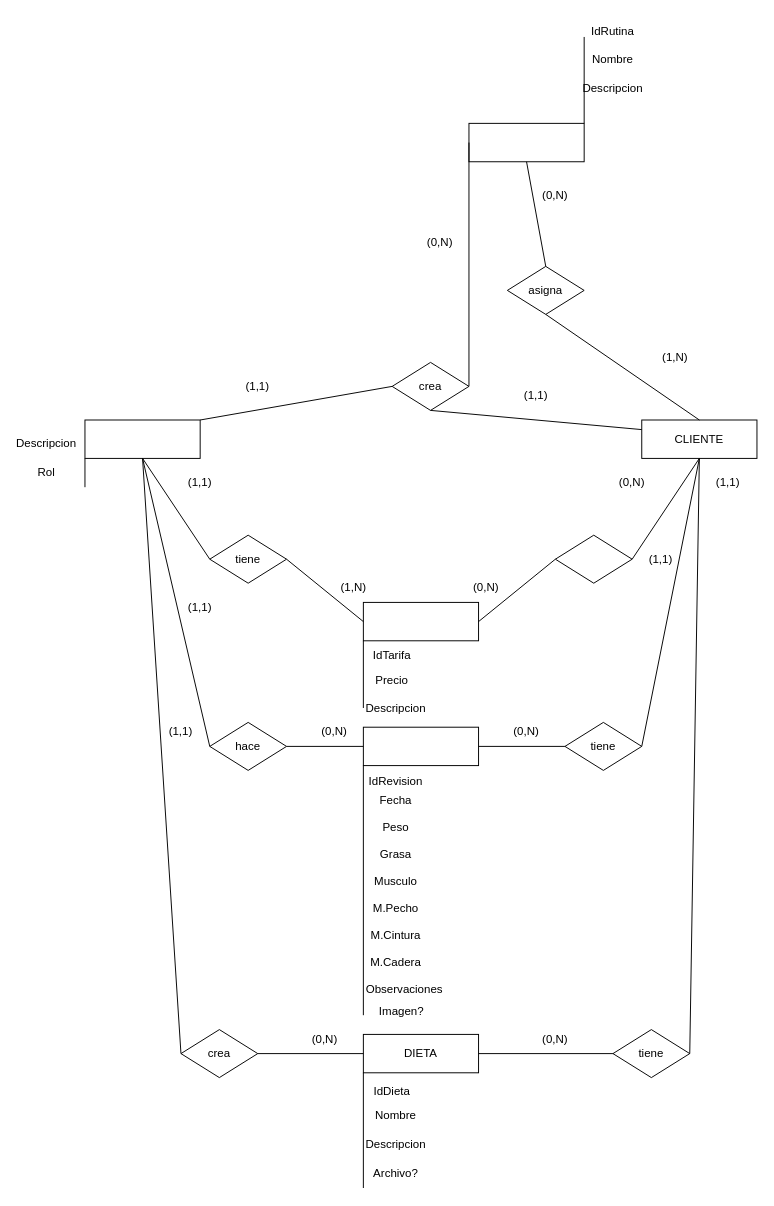
This 774x1206 diagram has some shape labels left out. The shapes that lost their labels are listed below. From the top down, each one's box as (x1, y1, x2, y2) in pixels, then its label:
(468, 122, 584, 162): RUTINA
(84, 419, 200, 458): EMPLEADO
(554, 534, 632, 583): Contrata
(362, 601, 479, 641): TARIFA
(362, 726, 479, 766): REVISION
